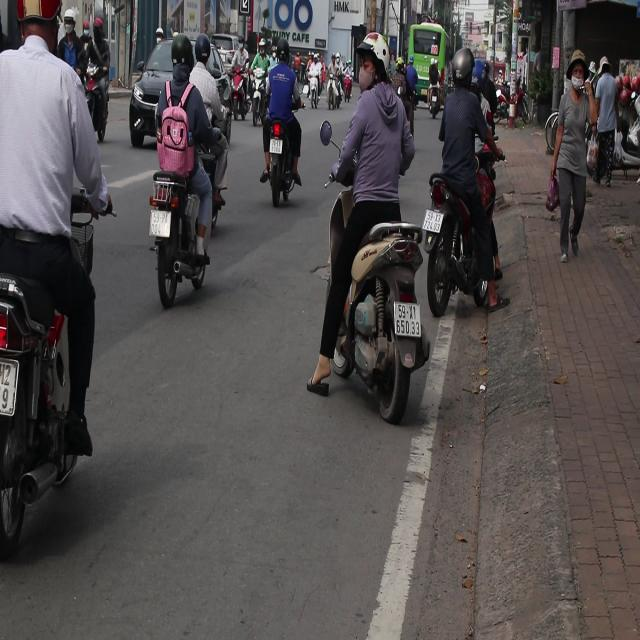bus: (407, 23, 450, 92)
car: (134, 36, 219, 142)
motorbike: (0, 215, 106, 518), (316, 182, 408, 442), (412, 164, 518, 328), (148, 166, 212, 309), (258, 117, 300, 196), (91, 55, 124, 133), (247, 64, 273, 107), (424, 90, 442, 124), (311, 62, 320, 112), (232, 70, 242, 114), (330, 81, 342, 117)
